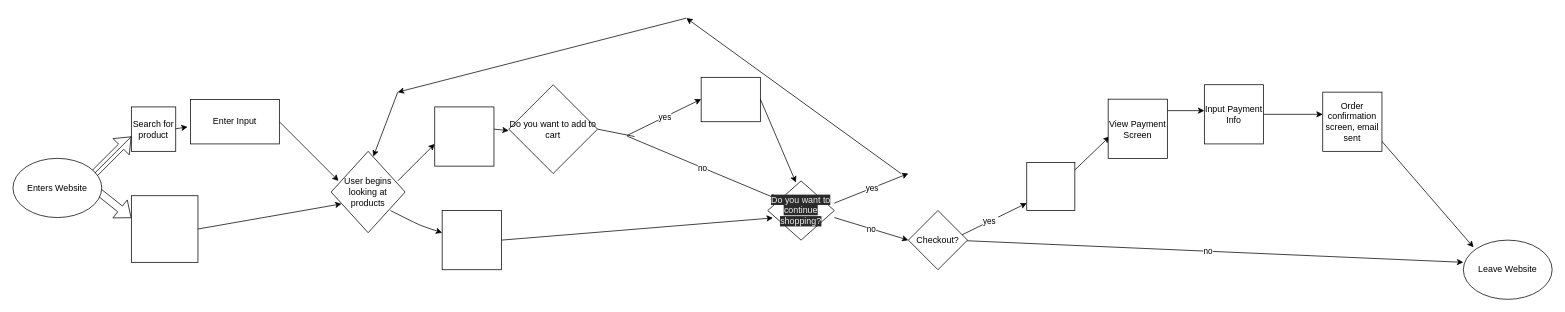
Some shapes in this 1565 by 312 pixel diagram are drawn without their labels. The centre of each missing label's shape, as x and y in pixels:
Added to cart!: point (730, 99)
Do not want to view item: point (471, 240)
explore products on home page: point (164, 228)
User chooses to look at a speecfic product, that product's site opens: point (464, 136)
View Cart Screen: point (1050, 186)
